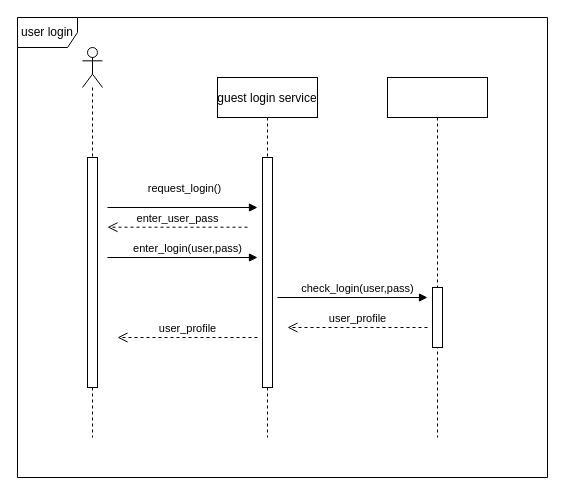
The diagram is 565 pixels wide and 495 high, and some of its shapes have lost their labels. Here are the shapes that lost their labels. From the top down, the box of each, then its label:
(82, 46, 102, 438): user
(386, 76, 488, 438): Users Database
